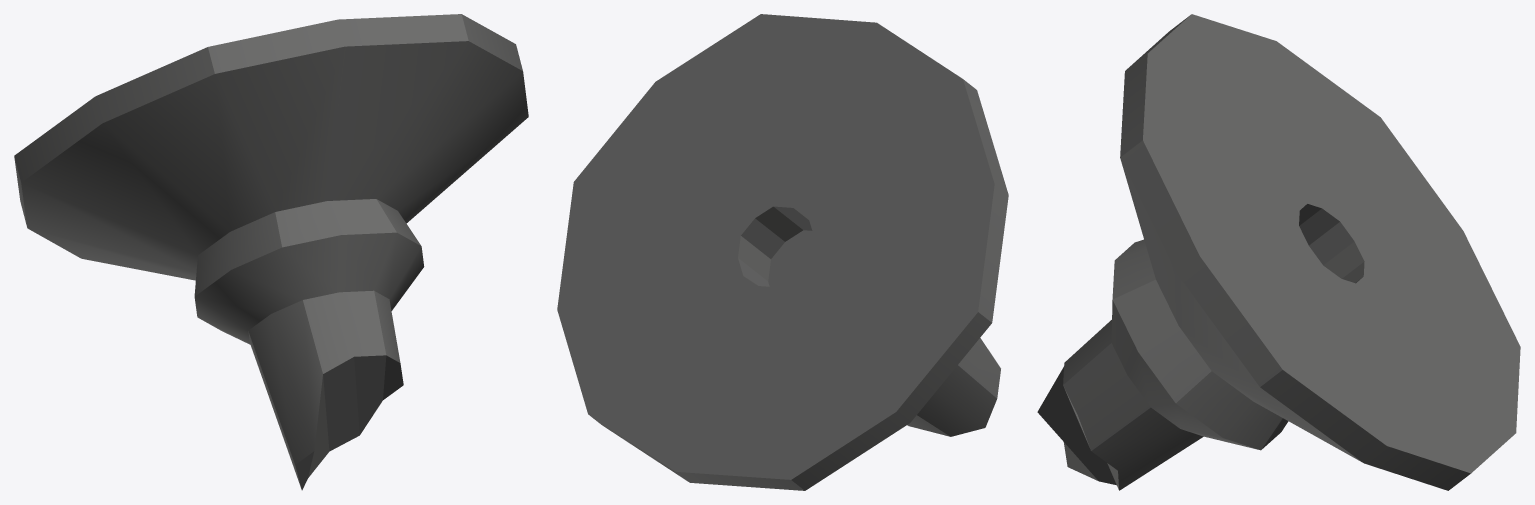
The model's file is FountainPiece3.fbx.
3 renders of one model, left to right at view 1: azimuth 30°, elevation 25°; view 2: azimuth 150°, elevation 25°; view 3: azimuth 270°, elevation 25°, orthographic. The views are drawn at different scales.
Parts seen in each view (by area): view 1: FountainPiece03; view 2: FountainPiece03; view 3: FountainPiece03.
Part boxes in pixels (left/top/right/bottom): FountainPiece03: left=14, top=14, right=528, bottom=490; FountainPiece03: left=557, top=14, right=1008, bottom=490; FountainPiece03: left=1037, top=14, right=1520, bottom=490.
Size of the model in its own units: 42.09 by 37.12 by 35.71.
